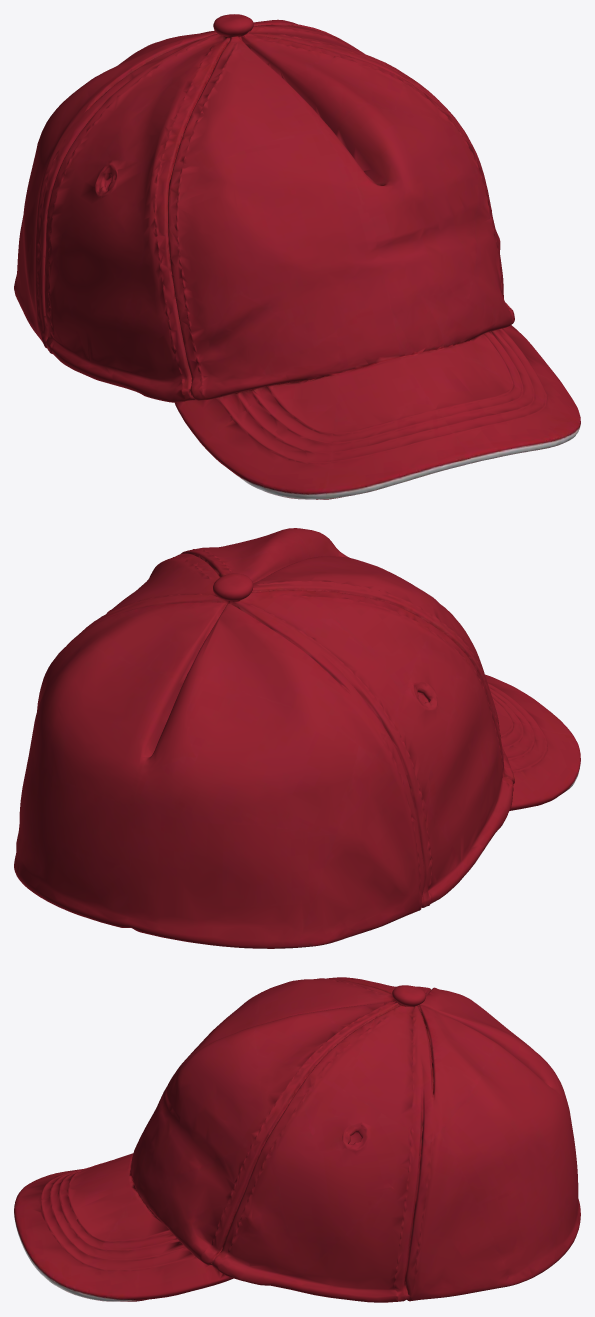
3 renders of one model, top to bottom at view 1: azimuth 30°, elevation 25°; view 2: azimuth 150°, elevation 25°; view 3: azimuth 270°, elevation 25°, orthographic. The views are drawn at different scales.
Visible parts, largest first — view 1: tripo_node_4f80c3f5-1f40-41e9-9878-80a49fea7037; view 2: tripo_node_4f80c3f5-1f40-41e9-9878-80a49fea7037; view 3: tripo_node_4f80c3f5-1f40-41e9-9878-80a49fea7037.
Boxes of the visible parts, left/top/right/bottom form: tripo_node_4f80c3f5-1f40-41e9-9878-80a49fea7037: left=14, top=14, right=580, bottom=499; tripo_node_4f80c3f5-1f40-41e9-9878-80a49fea7037: left=14, top=528, right=580, bottom=948; tripo_node_4f80c3f5-1f40-41e9-9878-80a49fea7037: left=14, top=977, right=580, bottom=1302.
Size of the model in its own units: 0.648 by 0.49 by 1.
1 material, 1 textured.
